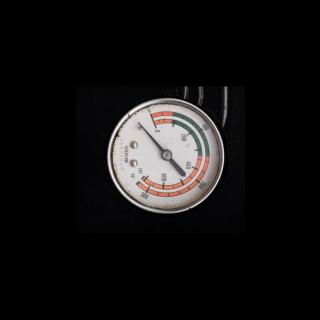gauge: (100, 97, 228, 219), (132, 118, 148, 134), (131, 174, 148, 188), (160, 149, 172, 161), (136, 120, 142, 126)
